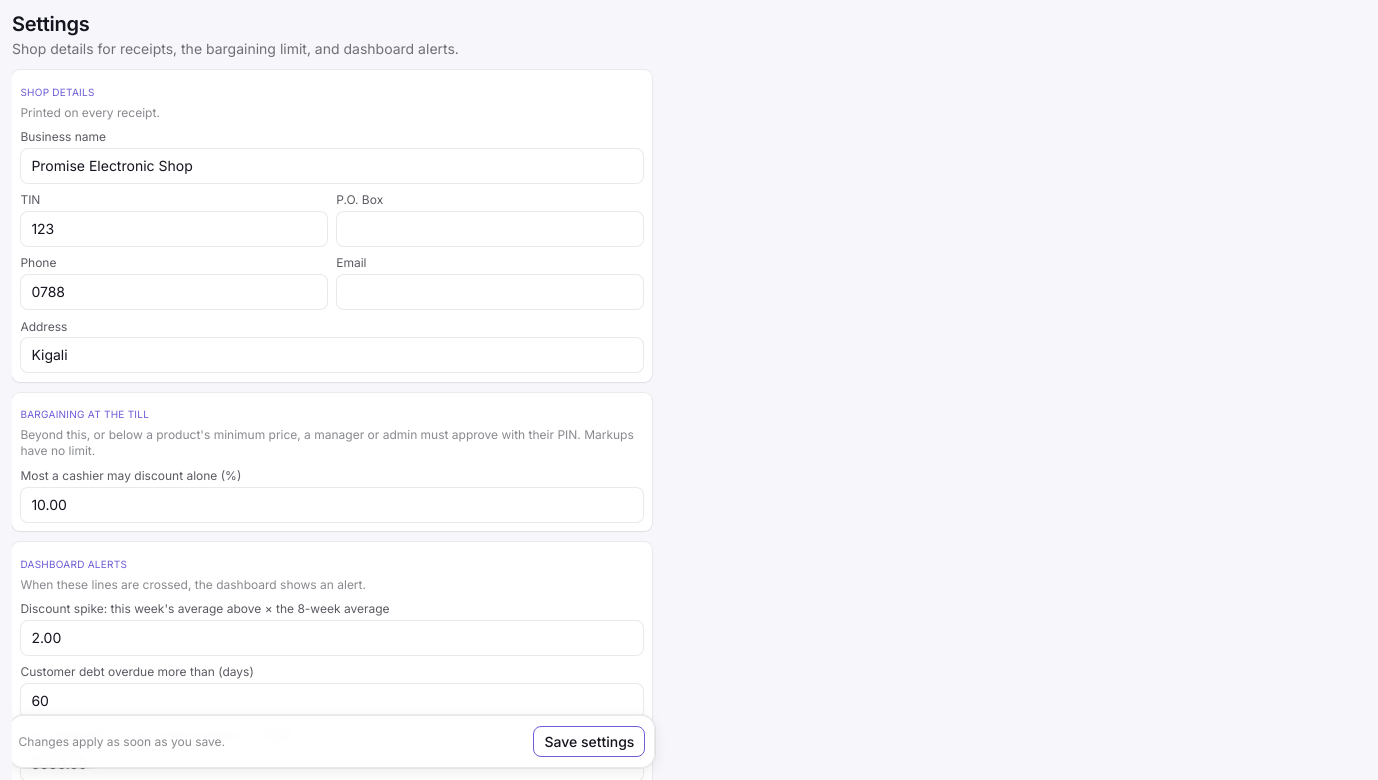
Test: SettingsPageClient › edits a dashboard alert threshold and refuses a negative one
This screenshot has width=1378, height=780.
Replace the text in the number field labelled "Customer debt overdue more than (days)" with "45" at (332, 701), box [20, 683, 644, 719]
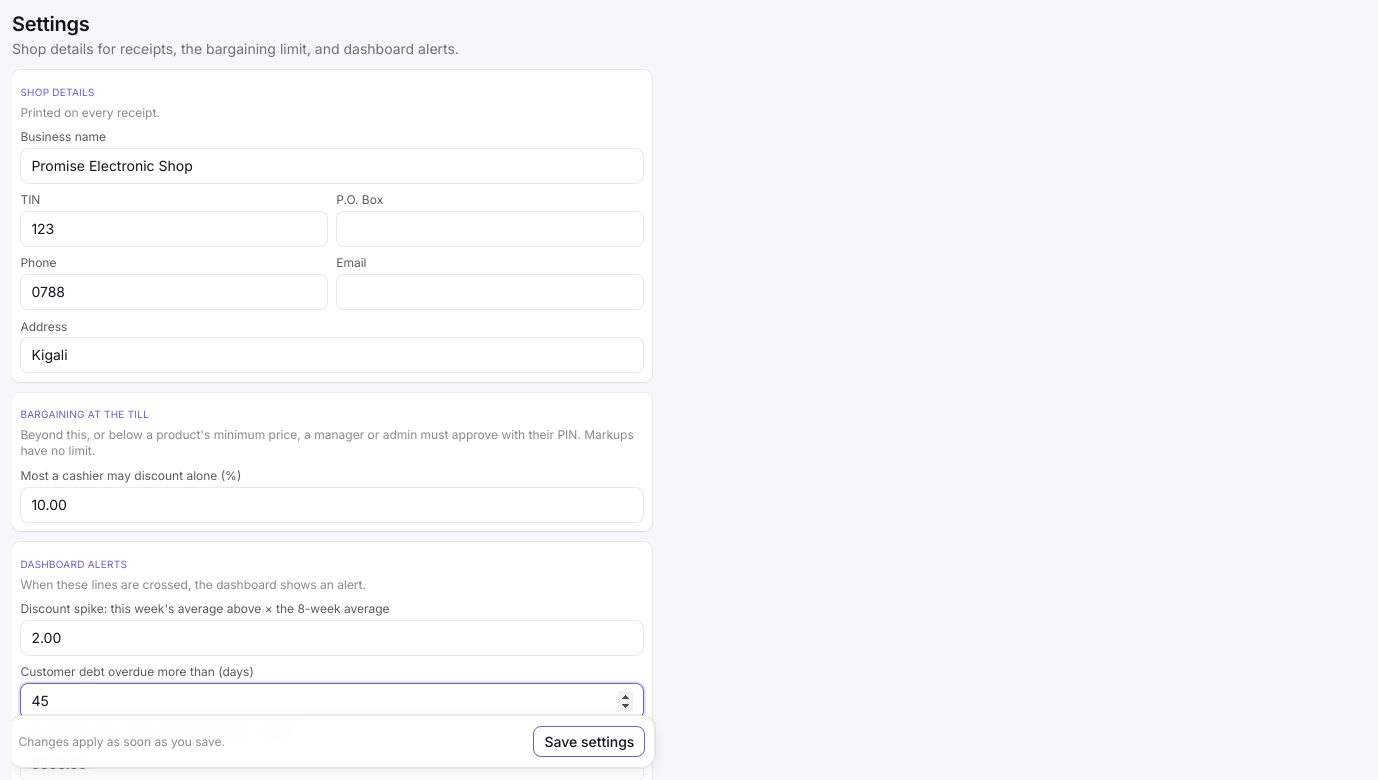
Click the button "Save settings" at (589, 742), box [534, 726, 645, 758]
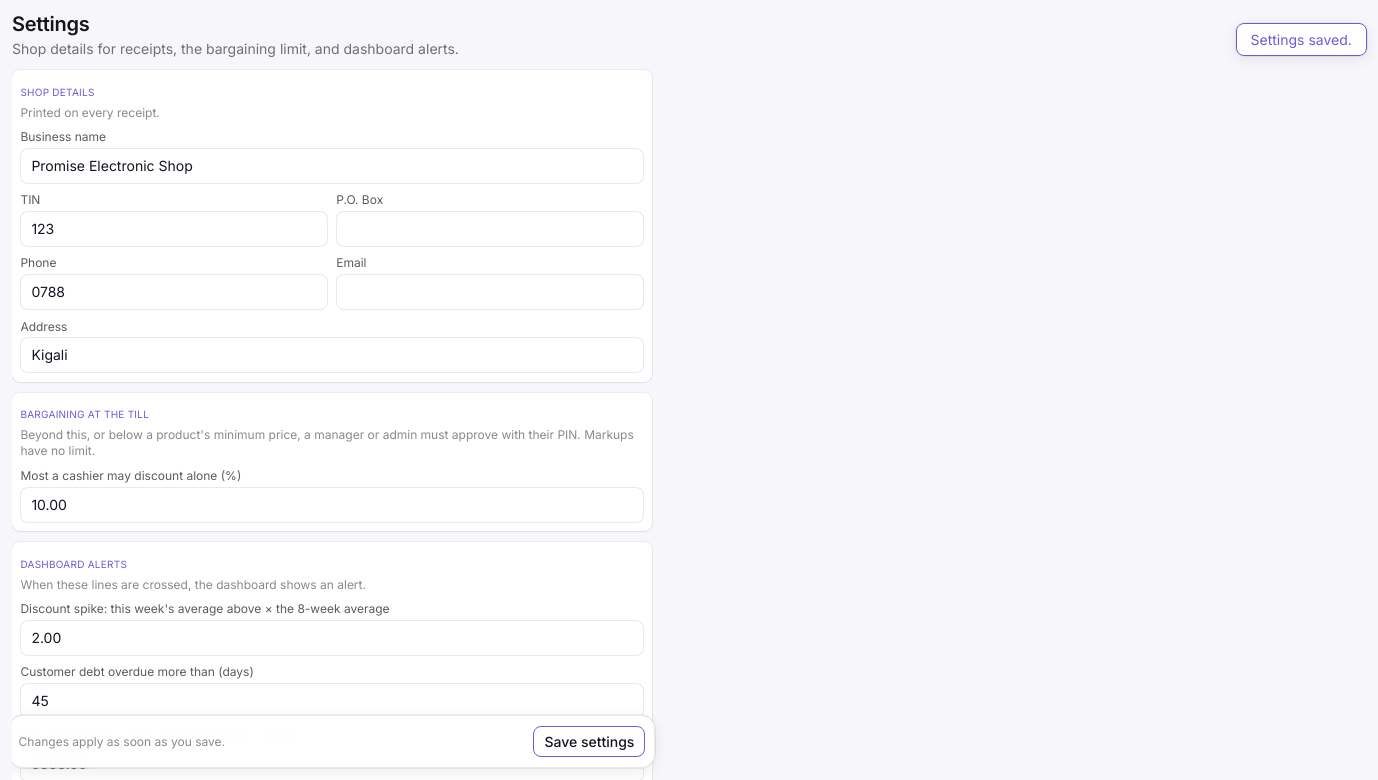
Replace the text in the number field labelled "Customer debt overdue more than (days)" with "-1" at (332, 701), box [20, 683, 644, 719]
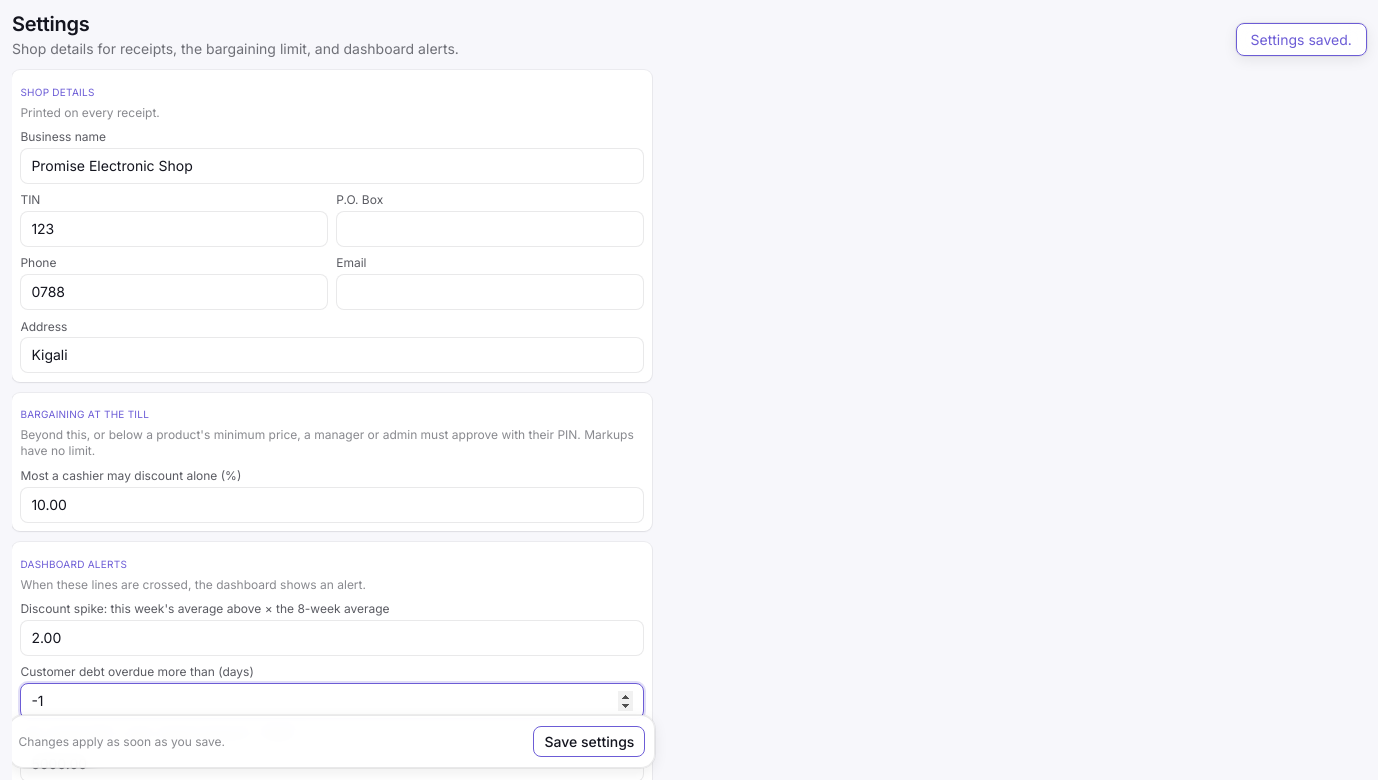
Click the button "Save settings" at (589, 742), box [534, 726, 645, 758]
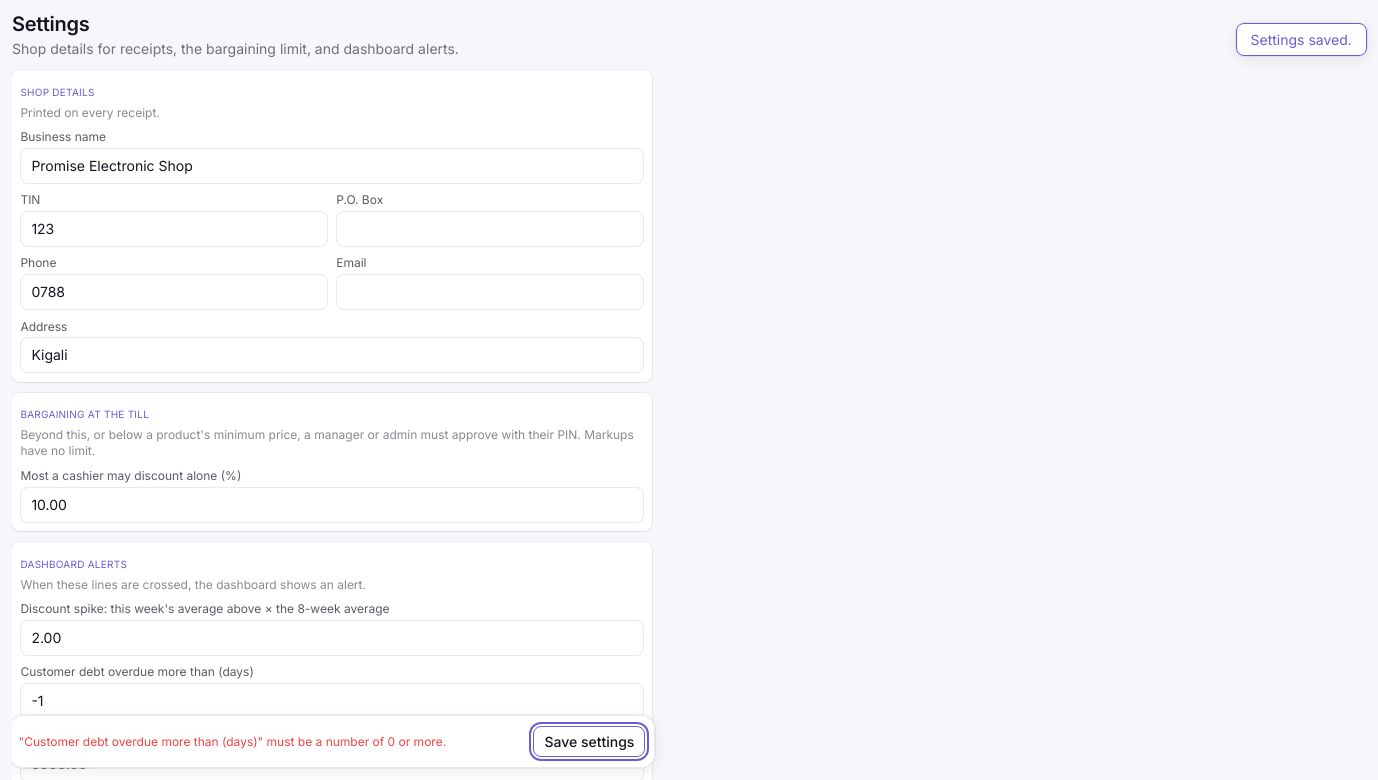
Expected: the text "must be a number of 0 or more" is shown, [19, 734, 446, 749]
